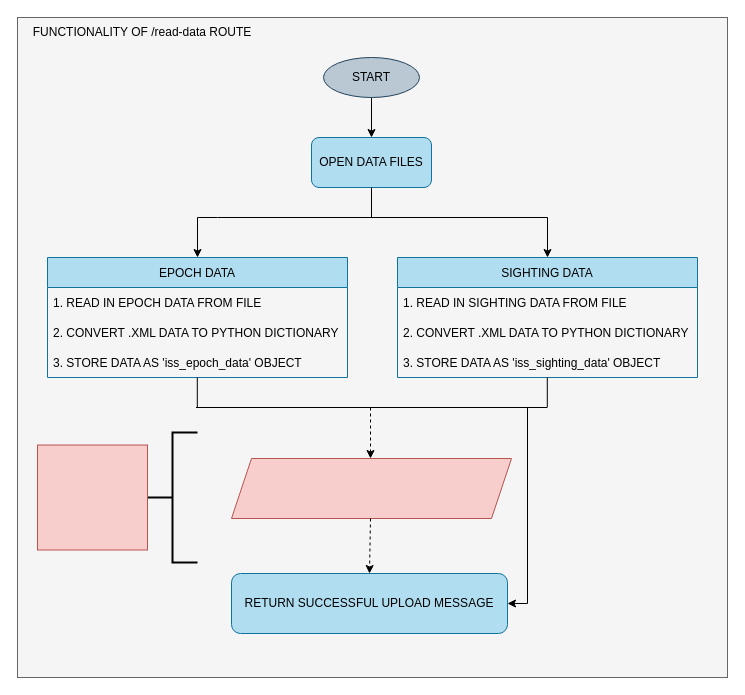
Image size: 745x695. Some labels were removed from this diagram. Here are the shapes that lost their labels. From the top down, the centre of each, then its label:
the point at 92,497: * STORAGE TO REDIS STILL UNDER PRODUCTION.
the point at 371,488: UPLOAD DATA TO REDIS *
